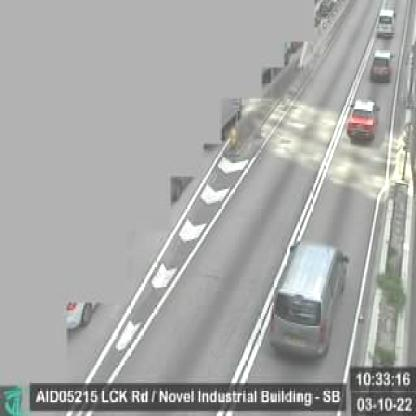Car: (272, 242, 348, 354), (346, 94, 379, 142), (369, 47, 393, 78), (375, 9, 396, 38)
